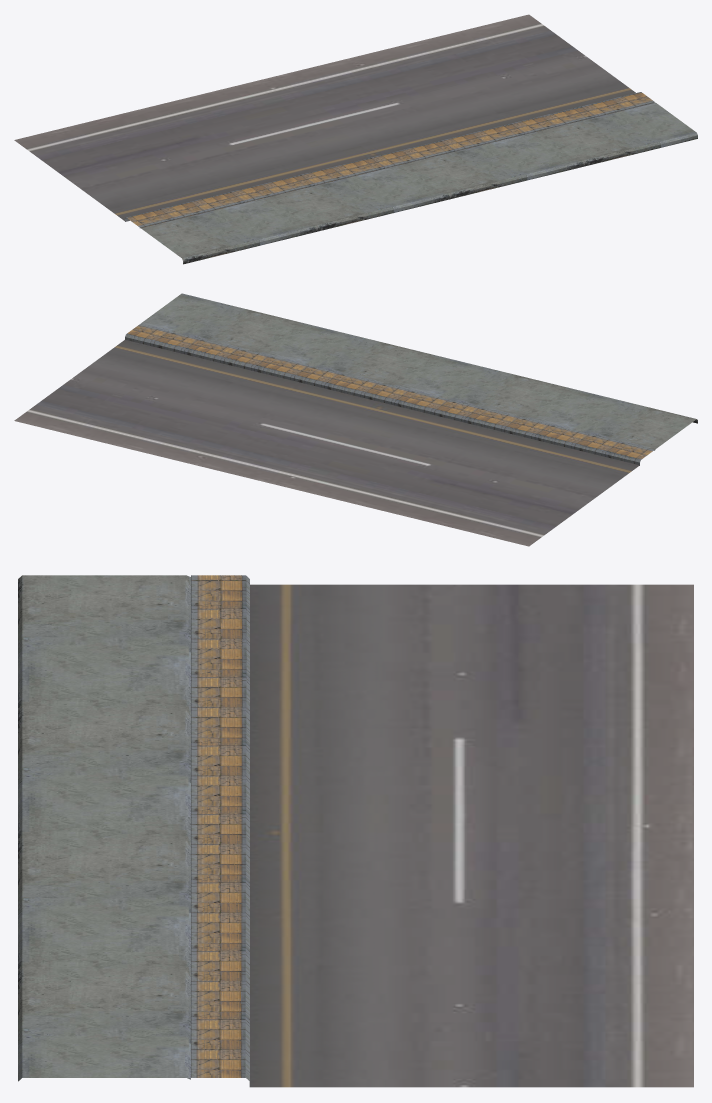
Rendered from Concrete.fbx.
The picture shows the model from 3 angles, top to bottom: view 1: azimuth 30°, elevation 25°; view 2: azimuth 150°, elevation 25°; view 3: azimuth 270°, elevation 25°; orthographic projection. The views are drawn at different scales.
Parts seen in each view (by area): view 1: Cube.001, Cube; view 2: Cube.001, Cube; view 3: Cube.001, Cube.
Part boxes in pixels (box(x1,y1,x2,y2)): Cube.001: box(14, 14, 635, 220); Cube: box(125, 92, 697, 264); Cube.001: box(14, 340, 639, 546); Cube: box(125, 293, 697, 465); Cube.001: box(249, 584, 693, 1087); Cube: box(18, 575, 249, 1081).
Size of the model in its own units: 4000 by 40 by 2272.
